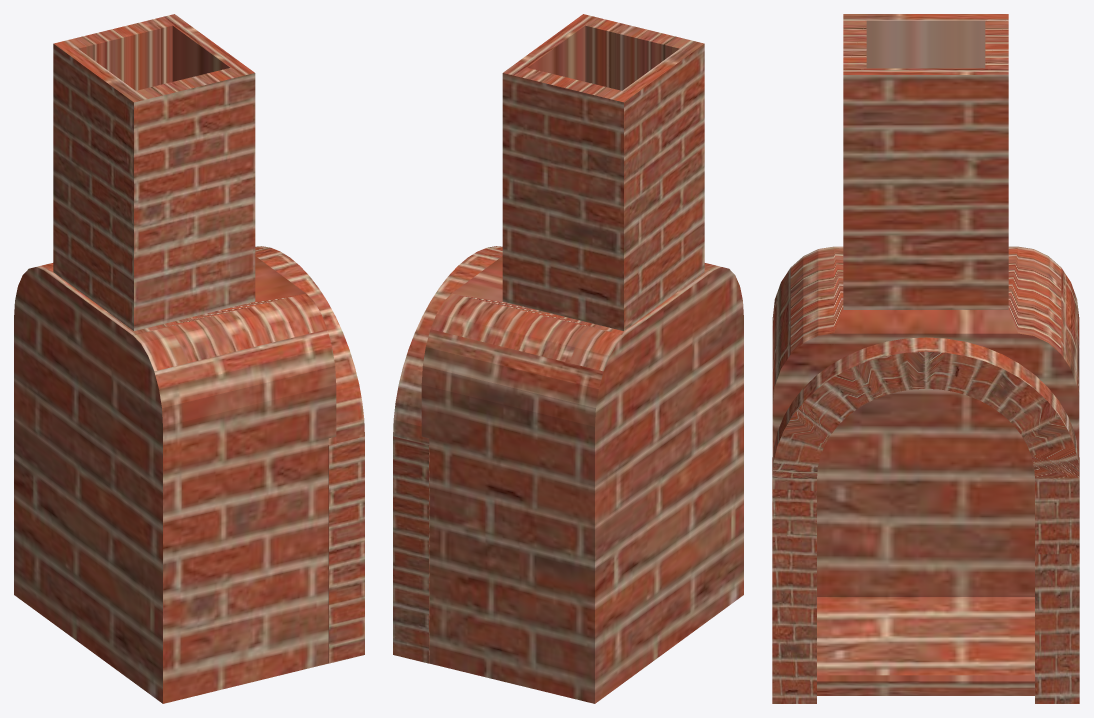
Rendered from Fireplace.fbx.
3 views of the same model, side by side, from view 1: azimuth 30°, elevation 25°; view 2: azimuth 150°, elevation 25°; view 3: azimuth 270°, elevation 25° (orthographic). The views are drawn at different scales.
Visible parts, largest first — view 1: Cube, Torus.001; view 2: Cube, Torus.001; view 3: Cube, Torus.001.
Boxes of the visible parts, x1,y1,x2,y2 form: Cube: (14, 14, 336, 703); Torus.001: (255, 246, 364, 663); Cube: (421, 14, 743, 703); Torus.001: (393, 246, 502, 663); Cube: (772, 14, 1079, 695); Torus.001: (772, 337, 1079, 703).
Bounding box in the file's own units: 1.71 × 4.65 × 2.19.
2 materials, 2 textured.
